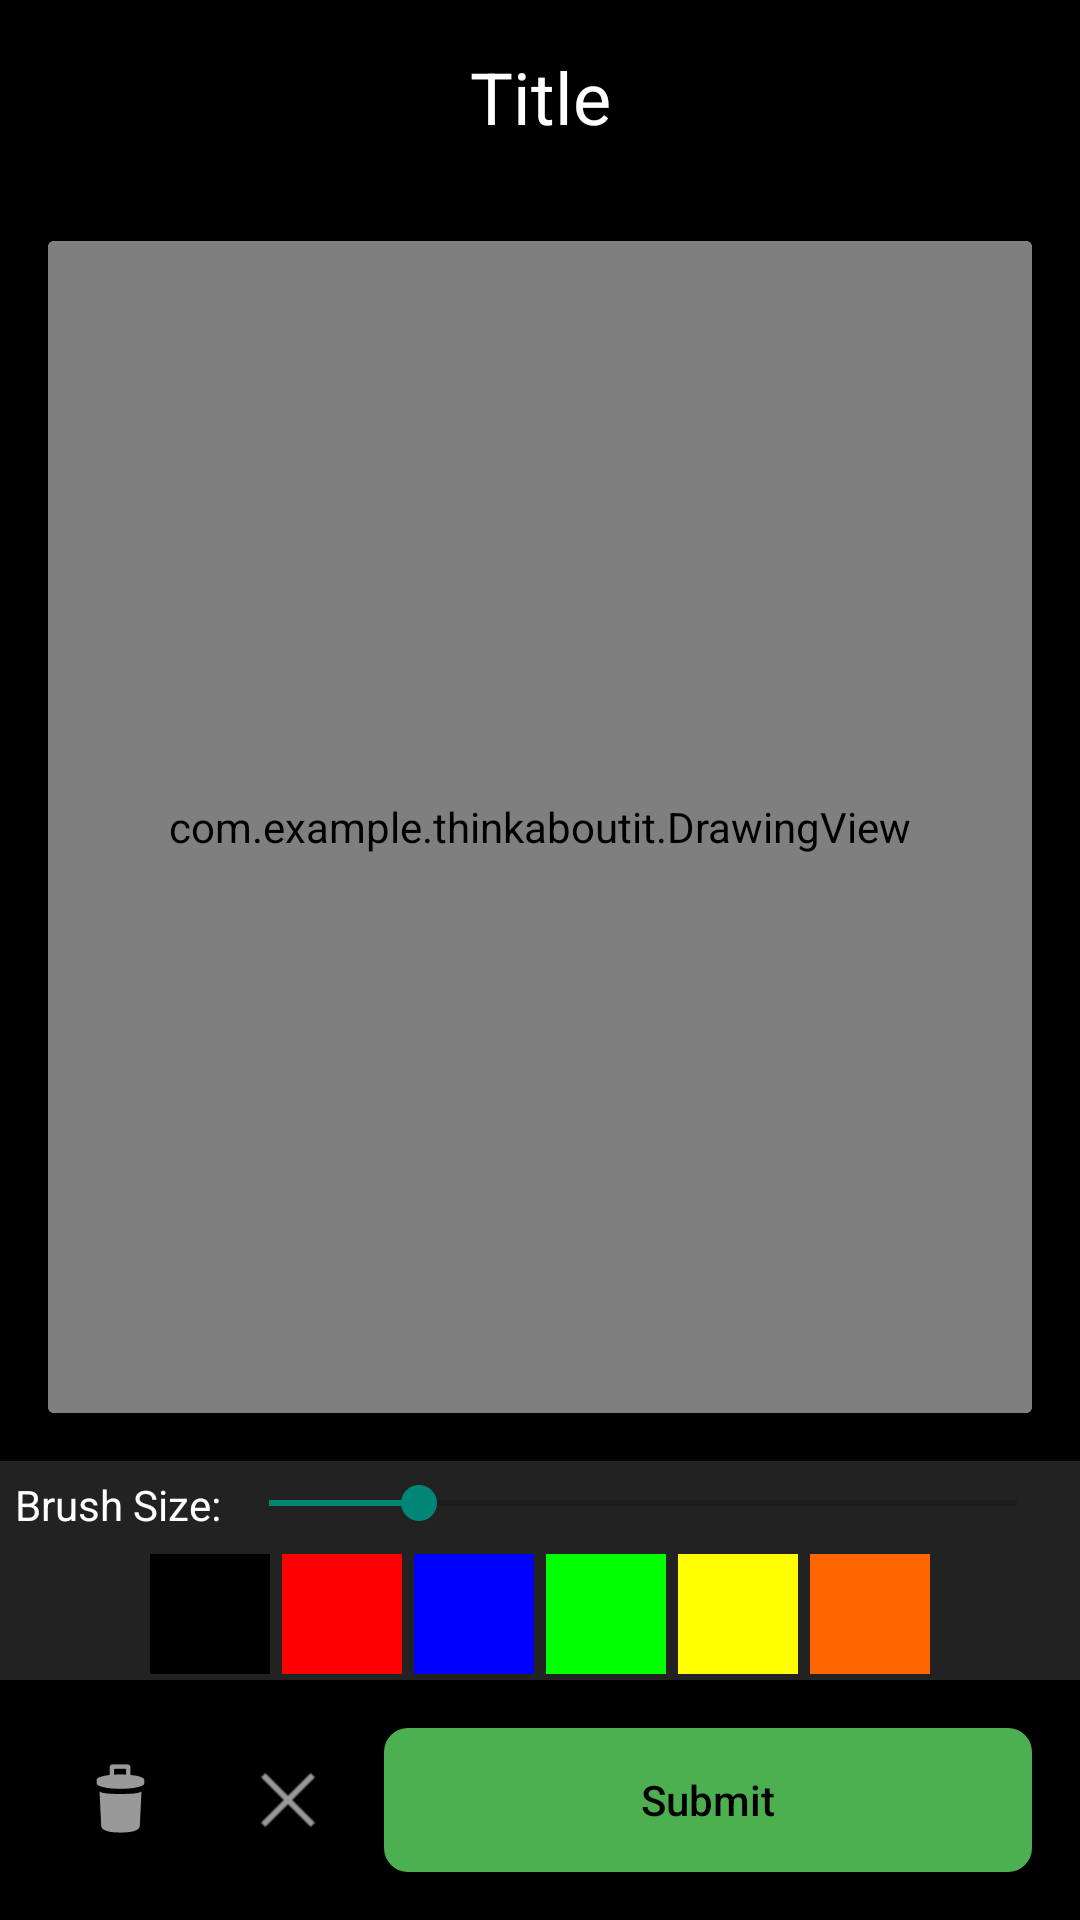

Where to tap for icons on this 1080 × 1920 app screen, as point (x, y):
Erase: point (120, 1798)
